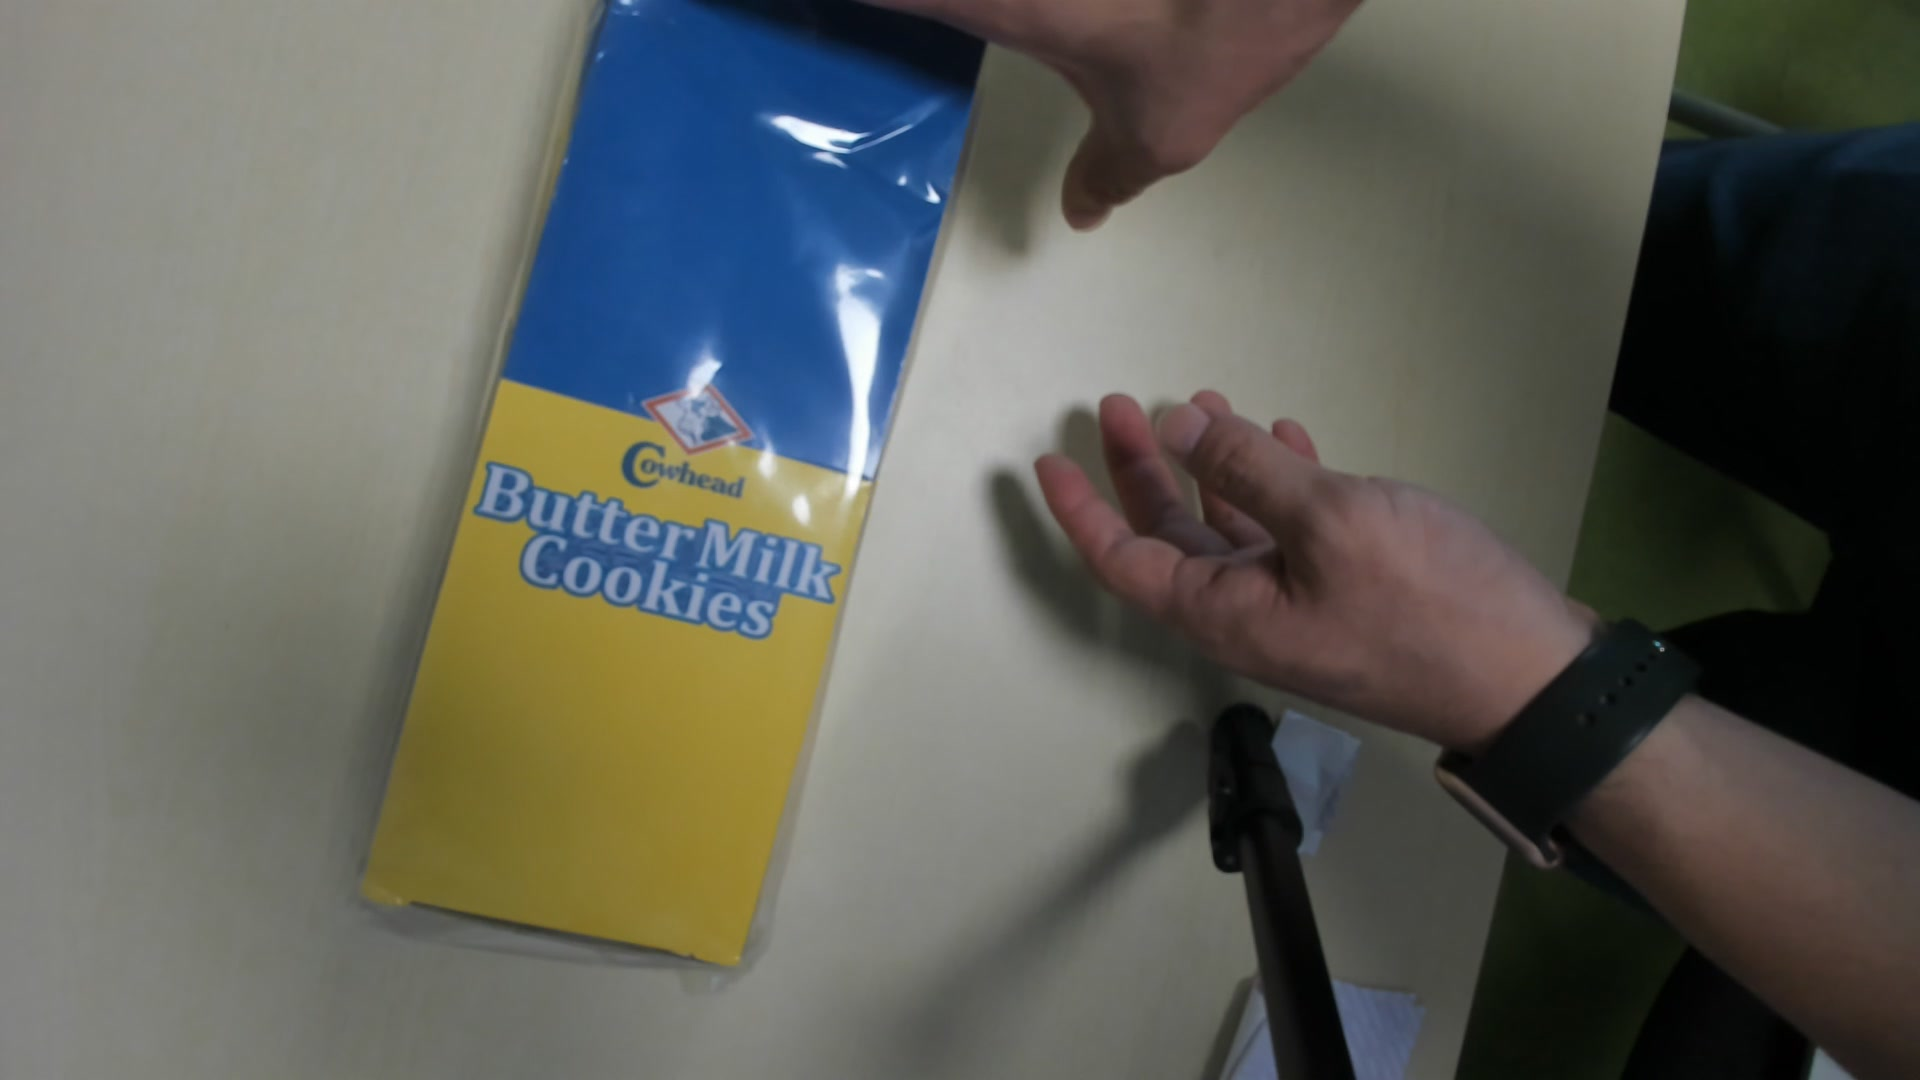SweetsChocolatesOthers_200-299g_Halal_Nonhealthy: (361, 13, 982, 975)
